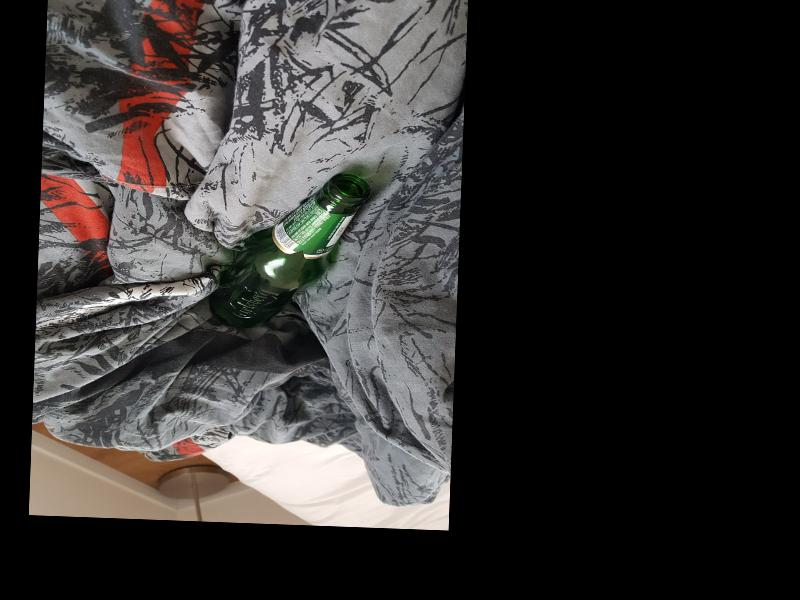Beer: (209, 166, 367, 332)
